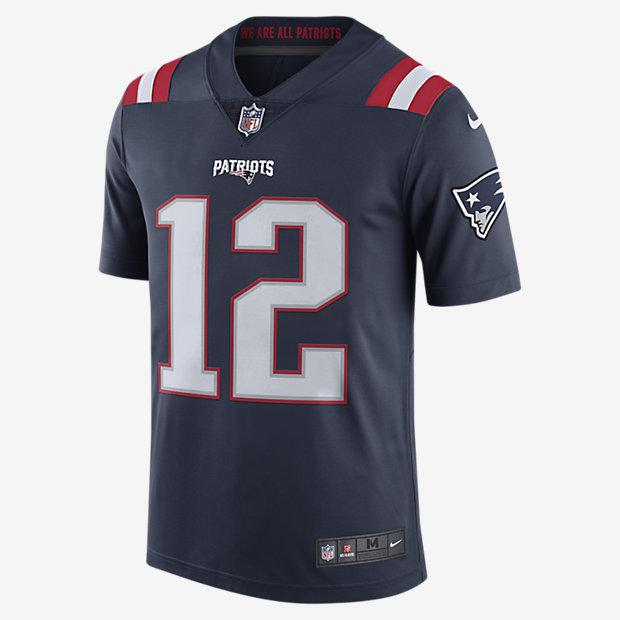teeshirt: (71, 5, 537, 620)
